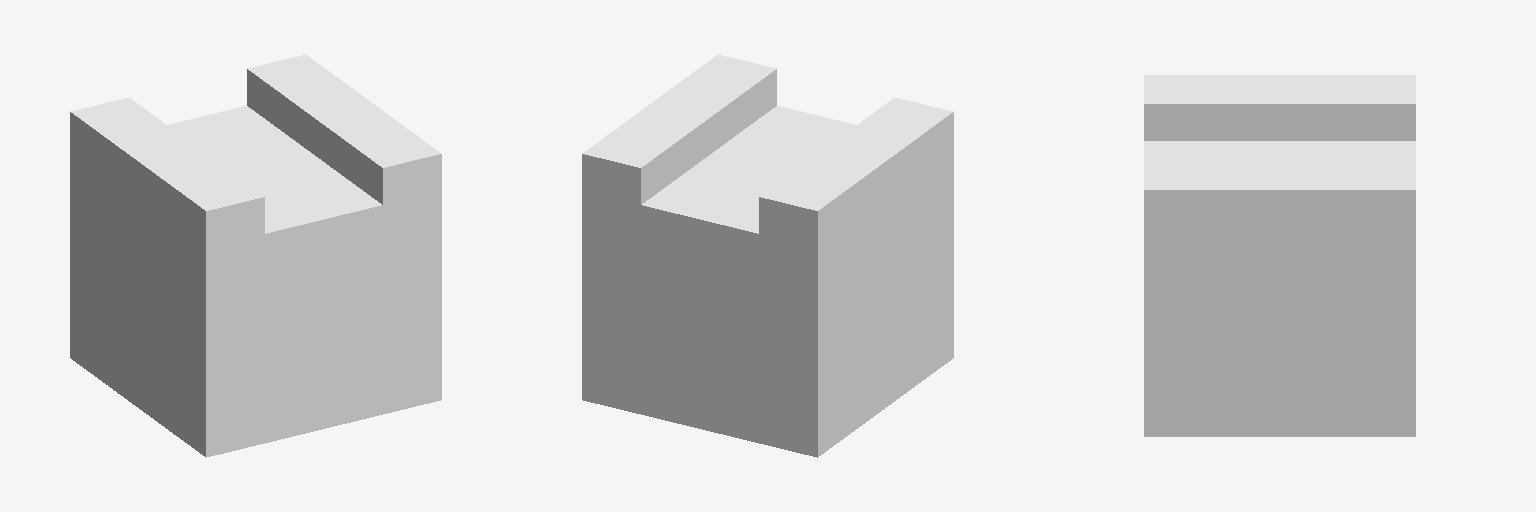
File: Raccoon.obj
The picture shows the model from 3 angles: view 1: azimuth 30°, elevation 25°; view 2: azimuth 150°, elevation 25°; view 3: azimuth 270°, elevation 25°; orthographic projection.
Visible parts, largest first — view 1: Raccoon; view 2: Raccoon; view 3: Raccoon.
Part boxes in pixels (x1,y1,x2,y2): Raccoon: (70, 54, 441, 457); Raccoon: (582, 54, 953, 457); Raccoon: (1144, 75, 1415, 436).
Bounding box in the file's own units: 40 × 40 × 40.